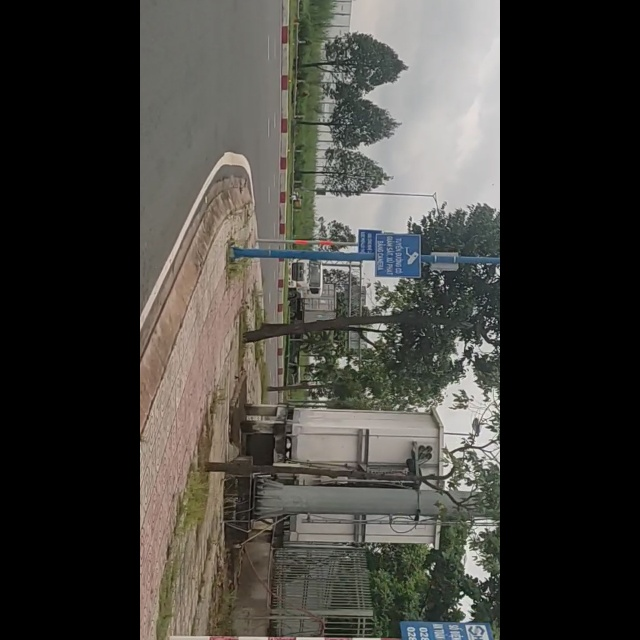bien_cam: (415, 231, 501, 279)
